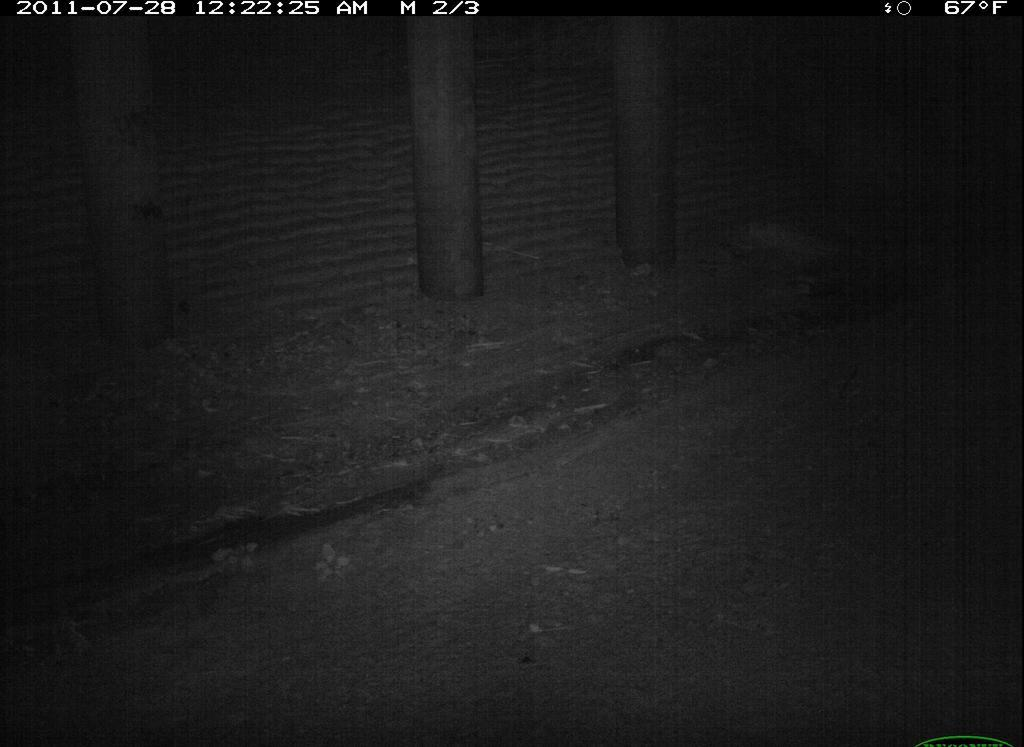bobcat: (4, 7, 1024, 747)
